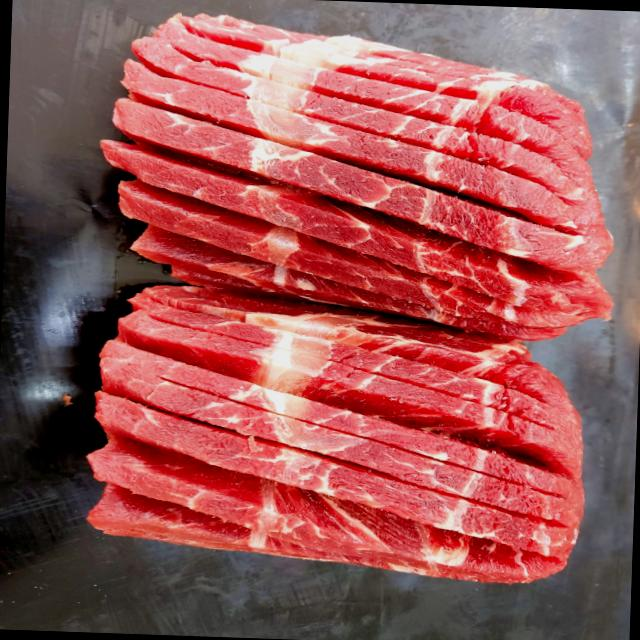beef: (165, 54, 554, 292), (145, 321, 532, 558)
